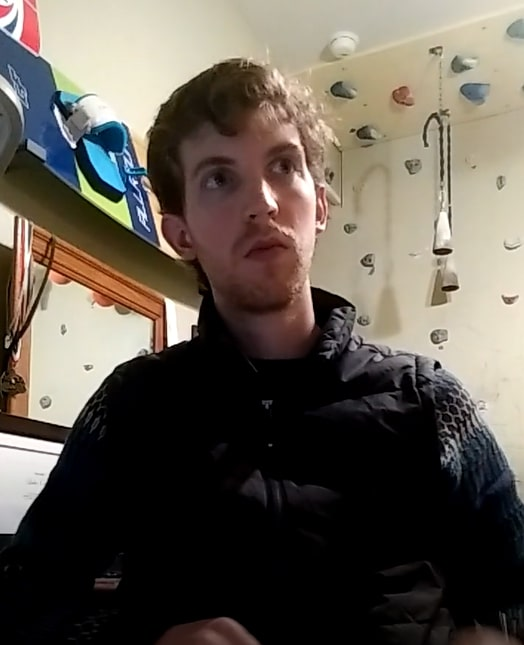Not Sleeping: (181, 149, 323, 193)
